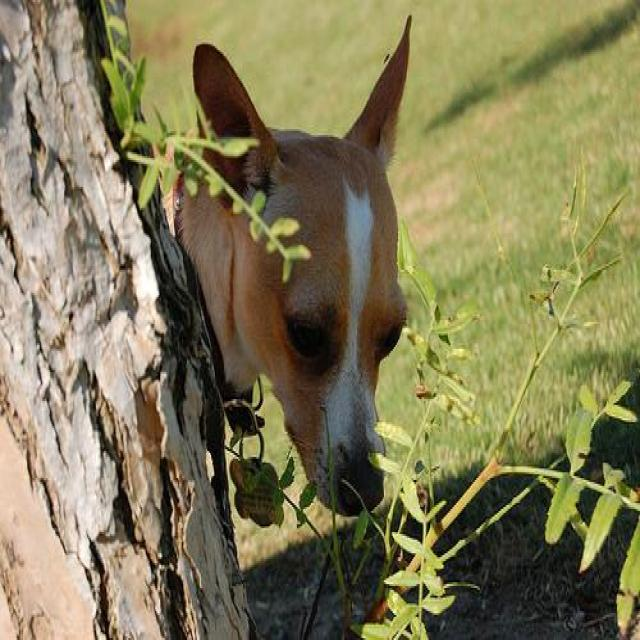chihuahua: (160, 17, 411, 515)
